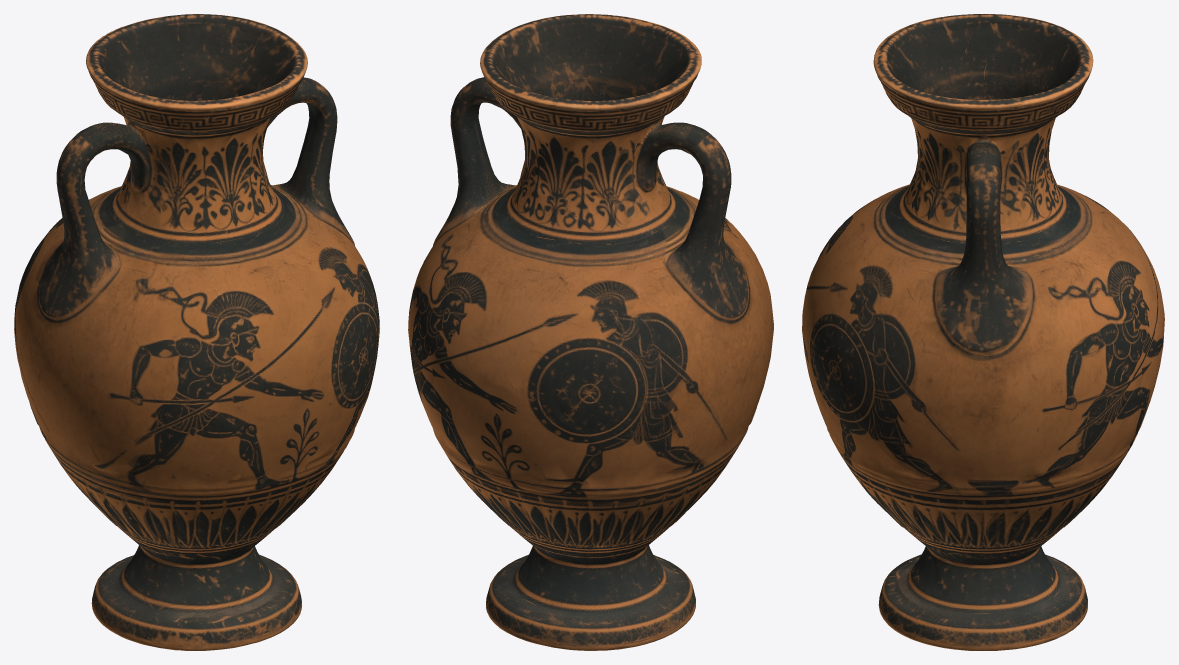
The model's file is WF_GreekRelics_PaintedAmphora.fbx.
The picture shows the model from 3 angles, left to right: view 1: azimuth 30°, elevation 25°; view 2: azimuth 150°, elevation 25°; view 3: azimuth 270°, elevation 25°; orthographic projection.
Visible parts, largest first — view 1: Mesh1.0; view 2: Mesh1.0; view 3: Mesh1.0.
Part boxes in pixels (left/top/right/bottom): Mesh1.0: left=14, top=14, right=379, bottom=650; Mesh1.0: left=408, top=14, right=773, bottom=650; Mesh1.0: left=802, top=14, right=1164, bottom=650.
Bounding box in the file's own units: 114 × 191 × 114.
Materials: 1 (1 with a texture image).
